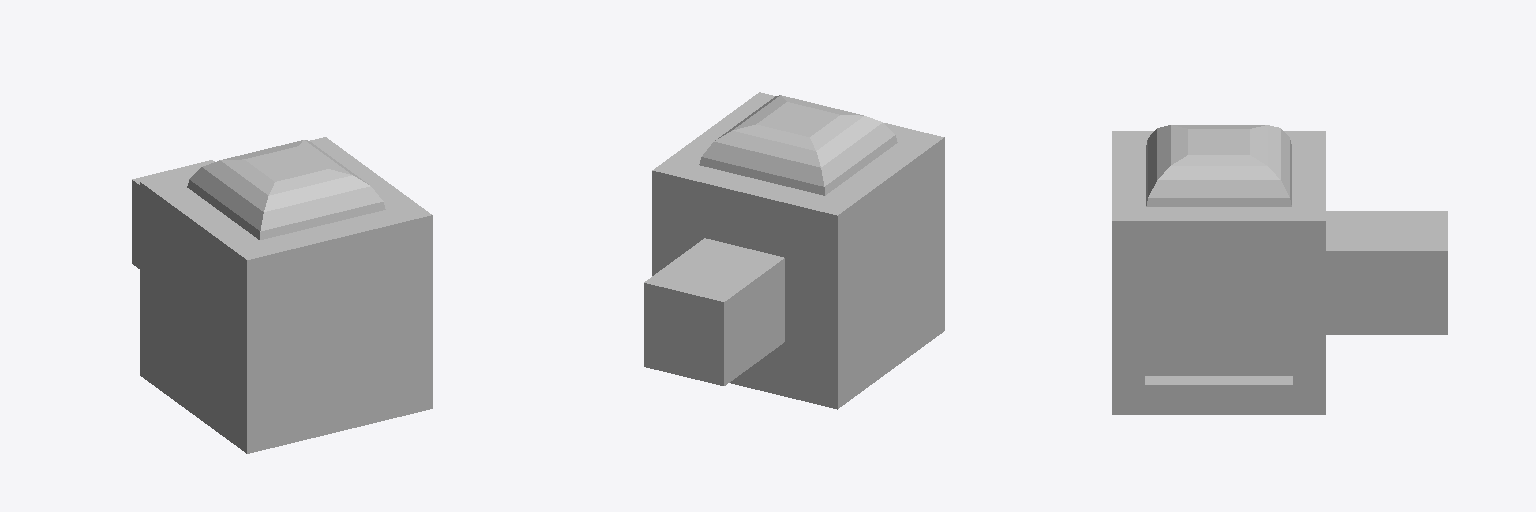
The model's file is alexthing.obj.
3 renders of one model, left to right at view 1: azimuth 30°, elevation 25°; view 2: azimuth 150°, elevation 25°; view 3: azimuth 270°, elevation 25°, orthographic.
Parts seen in each view (by area): view 1: Cube; view 2: Cube; view 3: Cube.
Boxes of the visible parts, x1=… form: Cube: x1=132, y1=137, x2=432, y2=453; Cube: x1=644, y1=92, x2=944, y2=409; Cube: x1=1112, y1=125, x2=1447, y2=414.
Bounding box in the file's own units: 2 × 2.35 × 3.14.